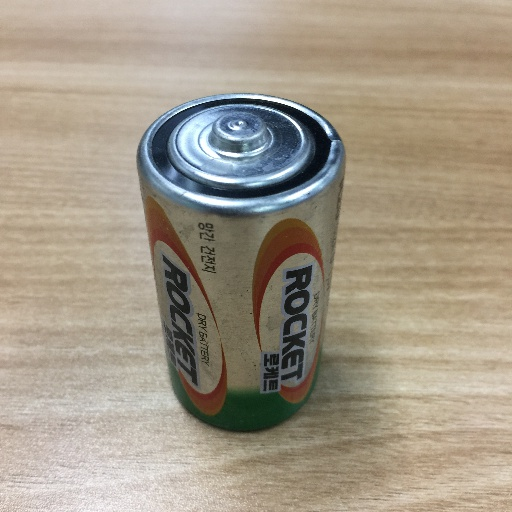Battery_0: (124, 83, 355, 442)
